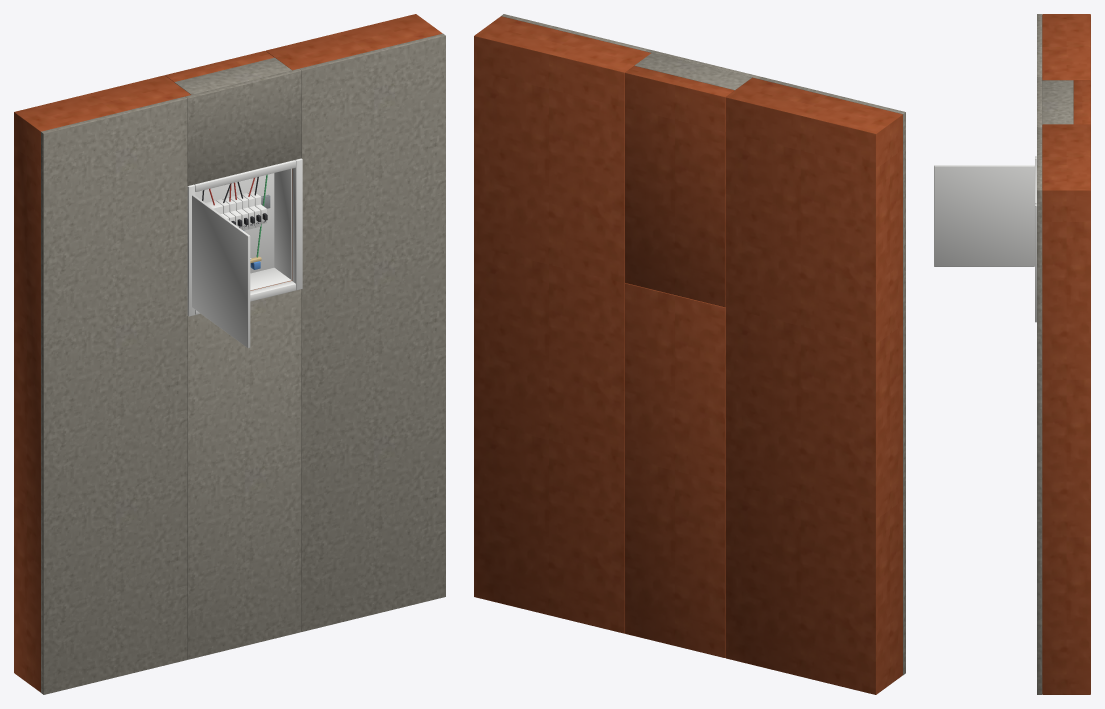
File: KIT-ELE-03_lod1.glb
3 renders of one model, left to right at view 1: azimuth 30°, elevation 25°; view 2: azimuth 150°, elevation 25°; view 3: azimuth 270°, elevation 25°, orthographic. The views are drawn at different scales.
Visible parts, largest first — view 1: KIT-ELE-03_reboco_esq, KIT-ELE-03_reboco_dir, KIT-ELE-03_reboco_baixo, KIT-ELE-03_parede_esq, KIT-ELE-03_reboco_cima, KIT-ELE-03_porta, KIT-ELE-03_parede_dir, KIT-ELE-03_caixa_fundo, KIT-ELE-03_caixa_lado1, KIT-ELE-03_chumbamento, KIT-ELE-03_moldura_d, KIT-ELE-03_parede_fundo (+2 smaller); view 2: KIT-ELE-03_parede_esq, KIT-ELE-03_parede_dir, KIT-ELE-03_parede_baixo, KIT-ELE-03_parede_fundo, KIT-ELE-03_reboco_esq, KIT-ELE-03_chumbamento; view 3: KIT-ELE-03_parede_dir, KIT-ELE-03_porta, KIT-ELE-03_reboco_dir, KIT-ELE-03_parede_esq, KIT-ELE-03_chumbamento, KIT-ELE-03_parede_fundo, KIT-ELE-03_reboco_esq, KIT-ELE-03_reboco_cima.
Boxes of the visible parts, <box> form: KIT-ELE-03_reboco_esq: <box>41,96,187,694</box>; KIT-ELE-03_reboco_dir: <box>299,33,445,631</box>; KIT-ELE-03_reboco_baixo: <box>187,289,301,659</box>; KIT-ELE-03_parede_esq: <box>14,75,190,692</box>; KIT-ELE-03_reboco_cima: <box>185,69,301,185</box>; KIT-ELE-03_porta: <box>192,195,250,348</box>; KIT-ELE-03_parede_dir: <box>266,14,442,280</box>; KIT-ELE-03_caixa_fundo: <box>195,173,274,273</box>; KIT-ELE-03_caixa_lado1: <box>274,168,291,280</box>; KIT-ELE-03_chumbamento: <box>174,57,291,94</box>; KIT-ELE-03_moldura_d: <box>292,158,302,290</box>; KIT-ELE-03_parede_fundo: <box>165,51,273,82</box>; KIT-ELE-03_parede_esq: <box>725,77,902,694</box>; KIT-ELE-03_parede_dir: <box>474,16,650,633</box>; KIT-ELE-03_parede_baixo: <box>625,283,725,657</box>; KIT-ELE-03_parede_fundo: <box>625,66,734,307</box>; KIT-ELE-03_reboco_esq: <box>759,77,905,675</box>; KIT-ELE-03_chumbamento: <box>634,53,751,90</box>; KIT-ELE-03_parede_dir: <box>1042,124,1090,694</box>; KIT-ELE-03_porta: <box>934,165,1034,266</box>; KIT-ELE-03_reboco_dir: <box>1037,127,1042,694</box>; KIT-ELE-03_parede_esq: <box>1042,14,1090,80</box>; KIT-ELE-03_chumbamento: <box>1042,80,1073,124</box>; KIT-ELE-03_parede_fundo: <box>1073,80,1090,124</box>; KIT-ELE-03_reboco_esq: <box>1037,14,1042,77</box>; KIT-ELE-03_reboco_cima: <box>1037,77,1042,127</box>.
Size of the model in its own units: 1.2 by 1.6 by 0.451.
16 materials, 3 textured.
